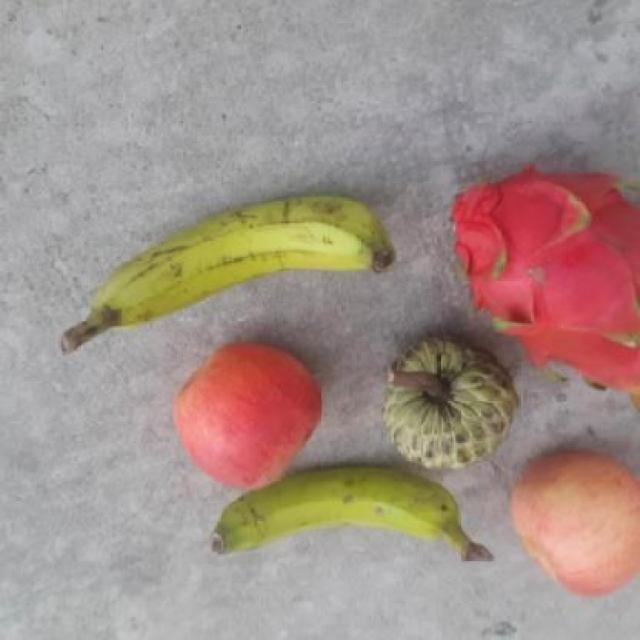apple: (172, 344, 323, 491), (509, 452, 640, 596)
banana: (56, 191, 399, 355), (209, 466, 500, 565)
dragon fruit: (449, 171, 640, 391)
sugar apple: (382, 335, 520, 470)
